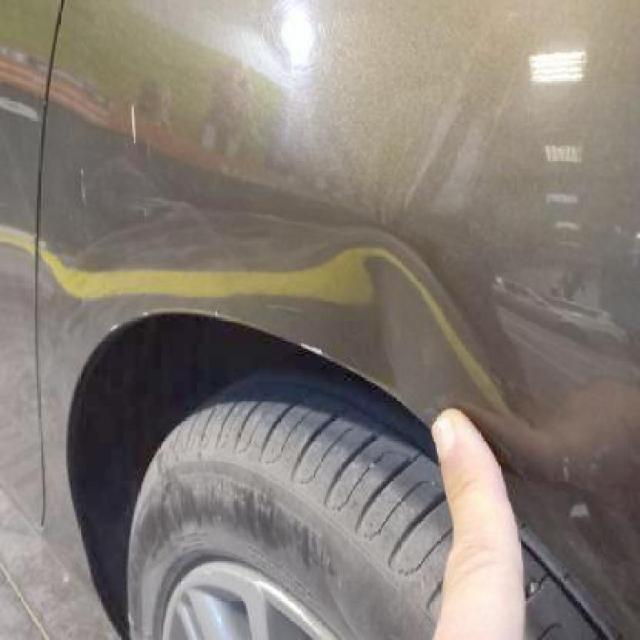car damage: (288, 200, 530, 449)
